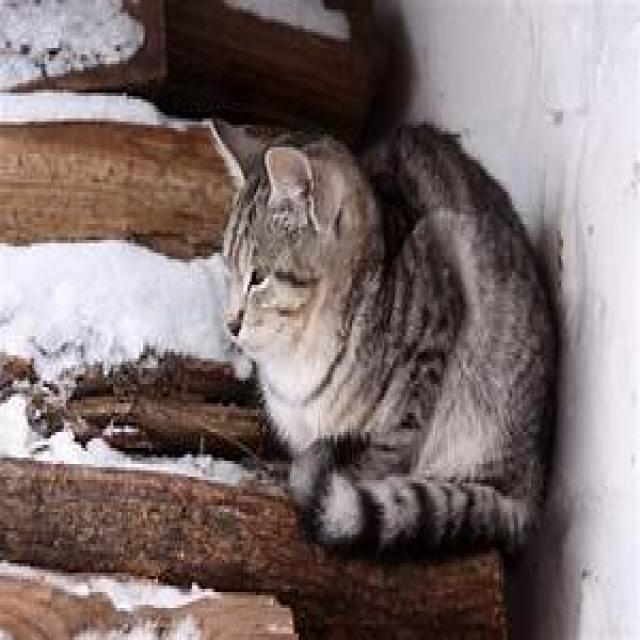animal: (201, 125, 546, 550)
